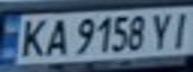1: (93, 14, 115, 54)
5: (112, 12, 133, 53)
8: (127, 11, 151, 52)
9: (72, 15, 96, 56)
A: (39, 16, 72, 58)
I: (166, 8, 193, 48)
K: (15, 16, 51, 60)
Y: (148, 10, 178, 51)
